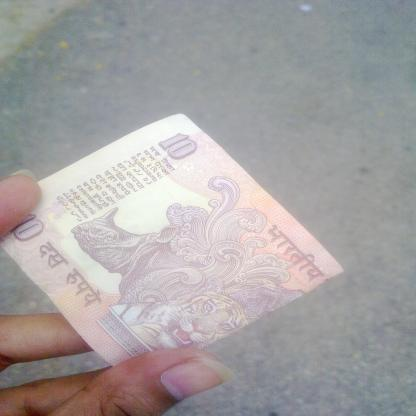Old10Back: (0, 113, 345, 368)
